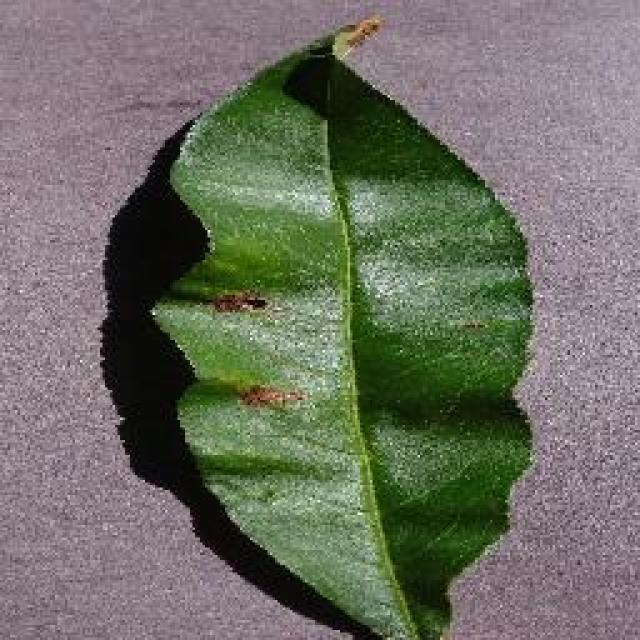Peach_Bacterial_Spot: (168, 218, 387, 490)
